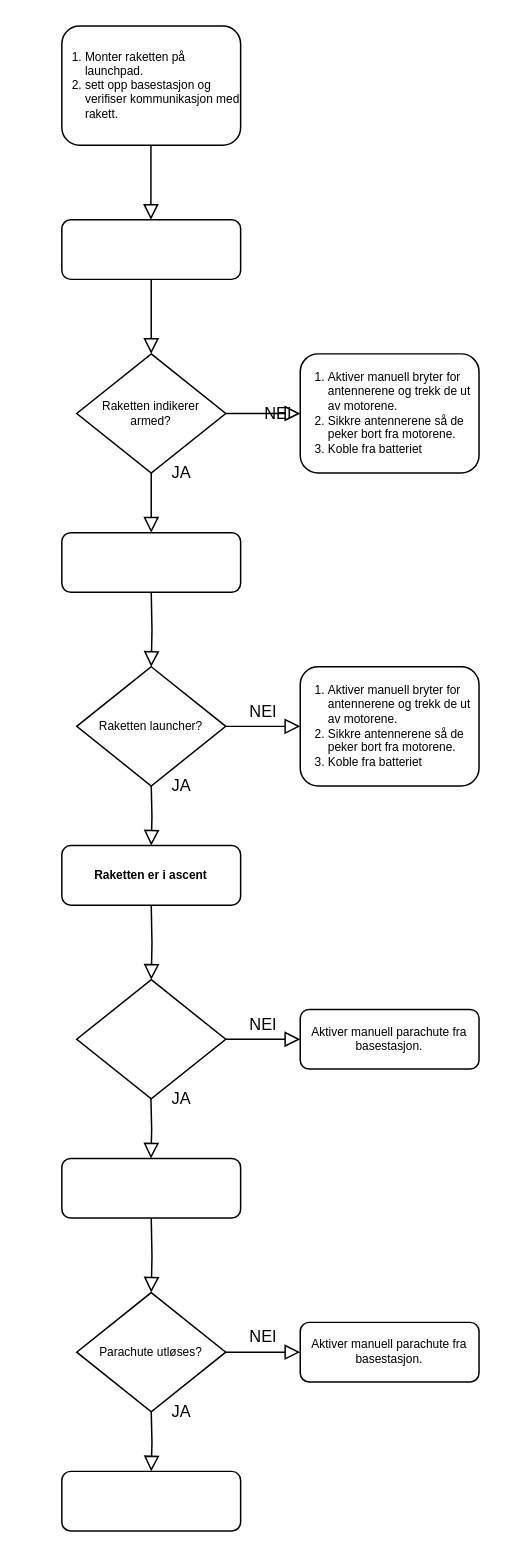
Some shapes in this 505 by 1557 pixel diagram are drawn without their labels. The centre of each missing label's shape, as x and y in pixels:
"ARM raketten" goes at (150,248).
"La raketten dale til den når bakken. Så koble fra batteriet." goes at (150,1500).
"Launch raketten" goes at (150,561).
"Raketten flyr fint?" goes at (150,1038).
"Raketten når apogee og begynner decent" goes at (150,1187).
